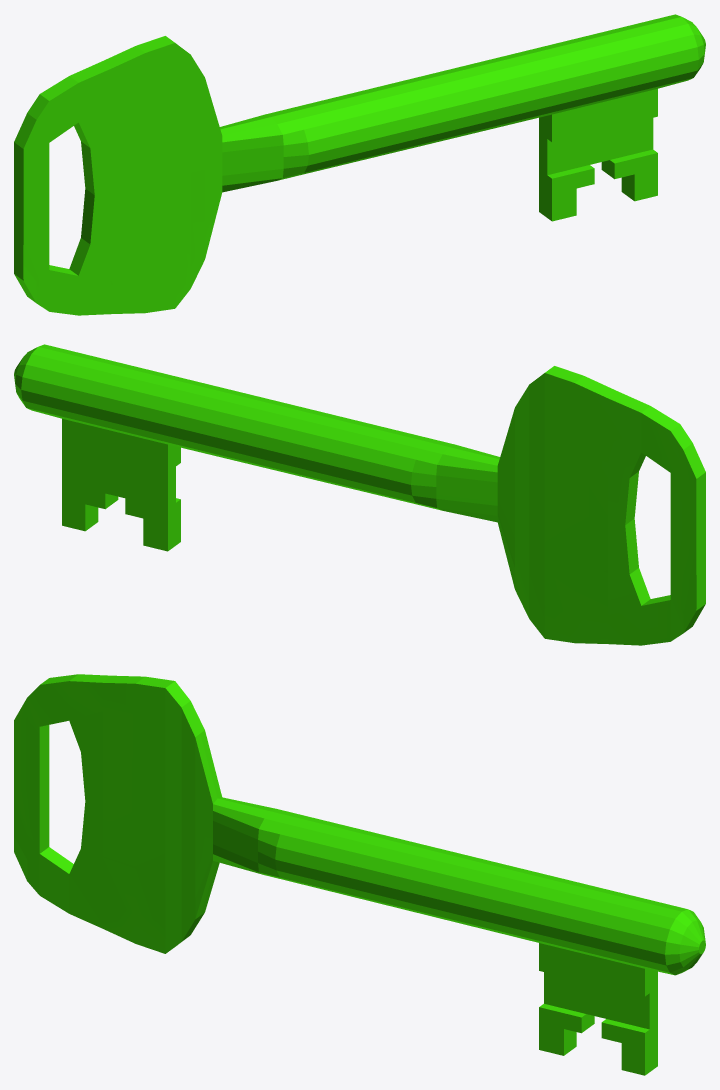
The model's file is green key.fbx.
3 renders of one model, top to bottom at view 1: azimuth 30°, elevation 25°; view 2: azimuth 150°, elevation 25°; view 3: azimuth 330°, elevation 25°, orthographic.
Parts seen in each view (by area): view 1: chave; view 2: chave; view 3: chave.
Boxes of the visible parts, x1,y1,x2,y2 form: chave: (14, 14, 705, 315); chave: (14, 344, 705, 645); chave: (14, 674, 705, 1075).
Bounding box in the file's own units: 808 × 304 × 69.25.
